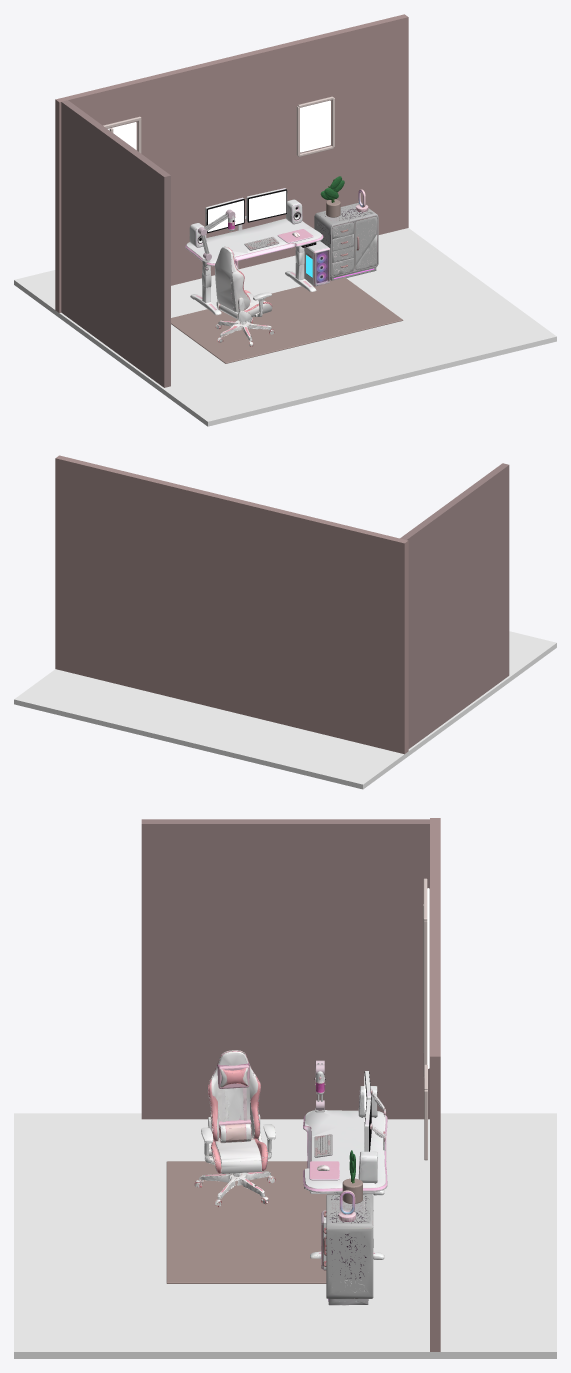
The picture shows the model from 3 angles, top to bottom: view 1: azimuth 30°, elevation 25°; view 2: azimuth 150°, elevation 25°; view 3: azimuth 270°, elevation 25°; orthographic projection. The views are drawn at different scales.
Visible parts, largest first — view 1: Architecture_Back_Wall, Architecture_Floor, Architecture_Left_Wall, Decor_Rug, GEO_Desk_Moving_Top, GEO_Chair_Swivel_Upper, GEO_Cabinet_Body, Wall_Art_Art, GEO_Door_Right_Front, 04-pc-tower_mesh_01, Screen_Right, GEO_Desk_Fixed_Base (+2 smaller); view 2: Architecture_Back_Wall, Architecture_Left_Wall, Architecture_Floor; view 3: Architecture_Floor, Architecture_Left_Wall, Decor_Rug, Architecture_Back_Wall, GEO_Chair_Swivel_Upper, GEO_Cabinet_Body, GEO_Desk_Moving_Top, GEO_Chair_Static_Base, Window_Frame_V.001.
Part boxes in pixels (left/top/right/bottom): Architecture_Back_Wall: left=55, top=14, right=408, bottom=312; Architecture_Floor: left=14, top=228, right=556, bottom=426; Architecture_Left_Wall: left=61, top=100, right=170, bottom=387; Decor_Rug: left=171, top=277, right=403, bottom=363; GEO_Desk_Moving_Top: left=185, top=218, right=323, bottom=274; GEO_Chair_Swivel_Upper: left=215, top=246, right=272, bottom=321; GEO_Cabinet_Body: left=314, top=202, right=378, bottom=280; Wall_Art_Art: left=300, top=100, right=330, bottom=152; GEO_Door_Right_Front: left=355, top=216, right=377, bottom=270; 04-pc-tower_mesh_01: left=304, top=241, right=330, bottom=286; Screen_Right: left=249, top=191, right=286, bottom=221; GEO_Desk_Fixed_Base: left=190, top=263, right=316, bottom=315; Architecture_Back_Wall: left=55, top=455, right=408, bottom=754; Architecture_Left_Wall: left=400, top=463, right=509, bottom=748; Architecture_Floor: left=14, top=631, right=556, bottom=789; Architecture_Floor: left=14, top=1113, right=556, bottom=1358; Architecture_Left_Wall: left=141, top=819, right=429, bottom=1119; Decor_Rug: left=166, top=1161, right=334, bottom=1283; Architecture_Back_Wall: left=430, top=818, right=440, bottom=1351; GEO_Chair_Swivel_Upper: left=201, top=1050, right=275, bottom=1173; GEO_Cabinet_Body: left=326, top=1194, right=373, bottom=1305; GEO_Desk_Moving_Top: left=303, top=1110, right=387, bottom=1194; GEO_Chair_Static_Base: left=194, top=1171, right=275, bottom=1206; Window_Frame_V.001: left=423, top=921, right=427, bottom=1075.
Size of the model in its own units: 5.2 by 3.07 by 5.
Materials: 32 (13 with a texture image).
